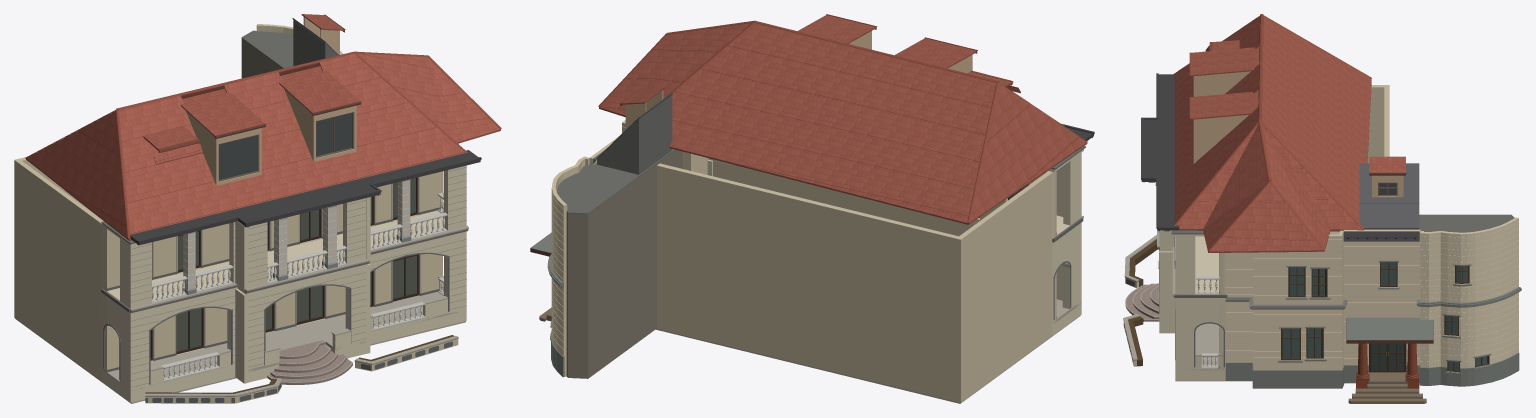
Rendered from changning-zhu-xueren-residence-yuyuan-garden-veranda-lod.glb.
3 views of the same model, side by side, from view 1: azimuth 30°, elevation 25°; view 2: azimuth 150°, elevation 25°; view 3: azimuth 270°, elevation 25° (orthographic). The views are drawn at different scales.
Visible parts, largest first — view 1: 朱学仁住宅南园廊与东入口; view 2: 朱学仁住宅南园廊与东入口; view 3: 朱学仁住宅南园廊与东入口.
Boxes of the visible parts, bbox=[...] form: 朱学仁住宅南园廊与东入口: bbox=[14, 14, 501, 403]; 朱学仁住宅南园廊与东入口: bbox=[530, 14, 1094, 403]; 朱学仁住宅南园廊与东入口: bbox=[1123, 14, 1521, 403].
Size of the model in its own units: 22.2 by 13.52 by 21.05.
Materials: 38 (2 with a texture image).
